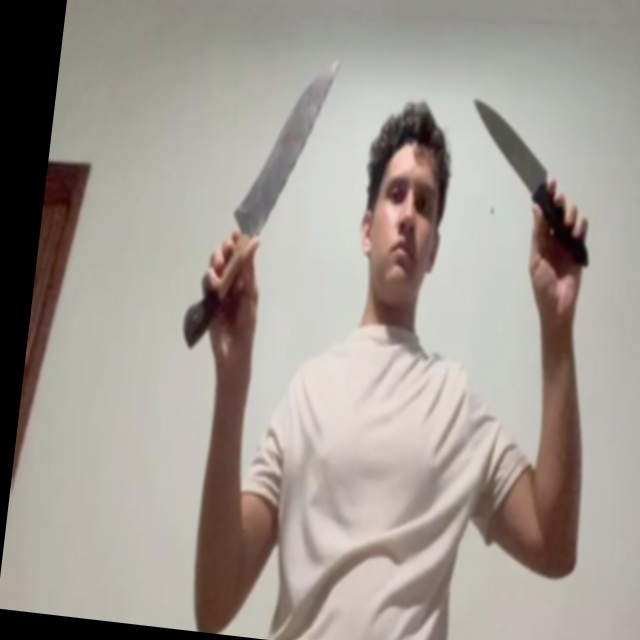Sharp-Object: (233, 51, 339, 237), (463, 97, 554, 191)
